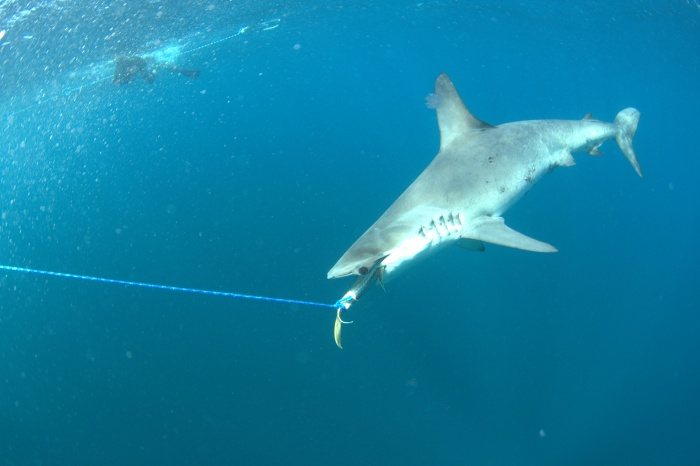Hammer: (295, 61, 671, 289)
